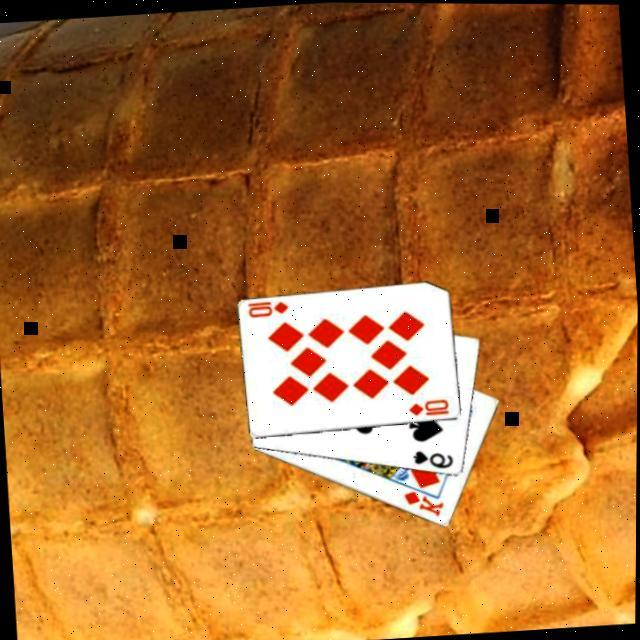10D: (246, 298, 294, 320), (408, 396, 453, 419)
6S: (412, 446, 459, 472)
KD: (402, 486, 449, 522)
